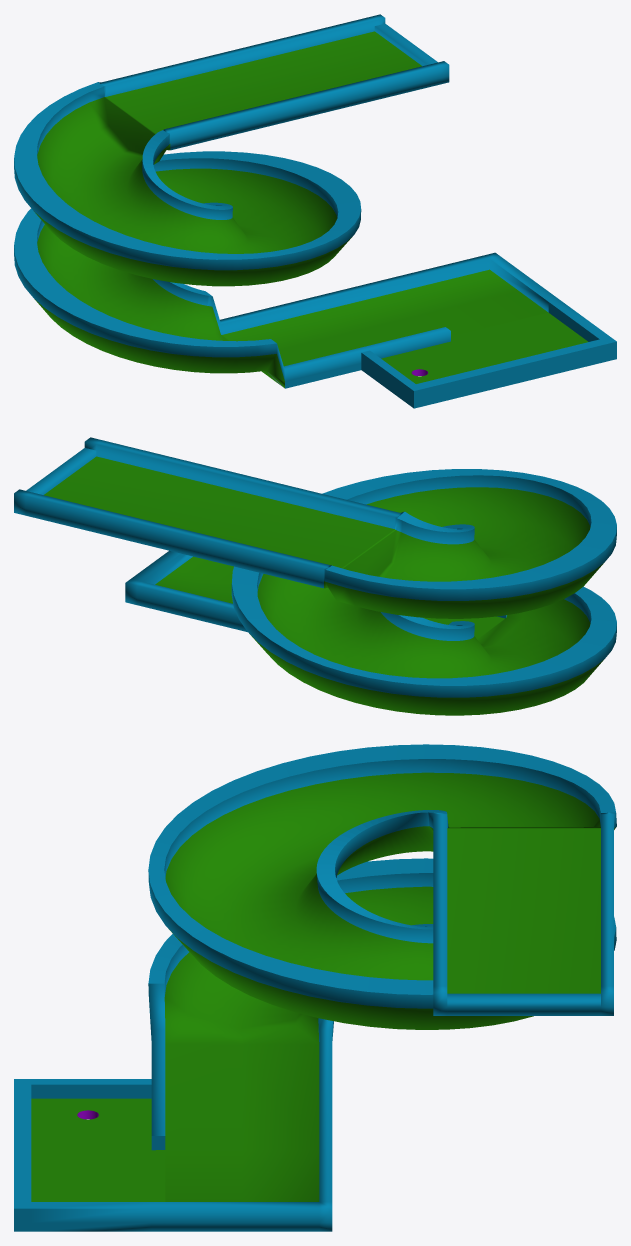
File: Level5.fbx
3 renders of one model, top to bottom at view 1: azimuth 30°, elevation 25°; view 2: azimuth 150°, elevation 25°; view 3: azimuth 270°, elevation 25°, orthographic. The views are drawn at different scales.
Visible parts, largest first — view 1: pCube6; view 2: pCube6; view 3: pCube6.
Boxes of the visible parts, left/top/right/bottom form: pCube6: left=14, top=14, right=616, bottom=408; pCube6: left=14, top=437, right=616, bottom=715; pCube6: left=14, top=744, right=616, bottom=1231.
Bounding box in the file's own units: 10.87 × 4.26 × 9.92.
1 material, 1 textured.
